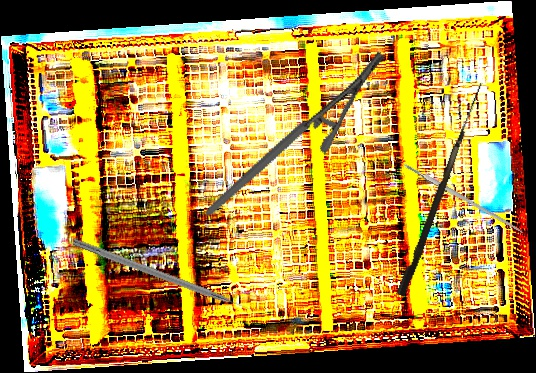Hook Surgical: (396, 79, 483, 298), (71, 237, 259, 317)
Needle Holder: (173, 48, 417, 217)
Scalpel Handle: (402, 161, 525, 235)
